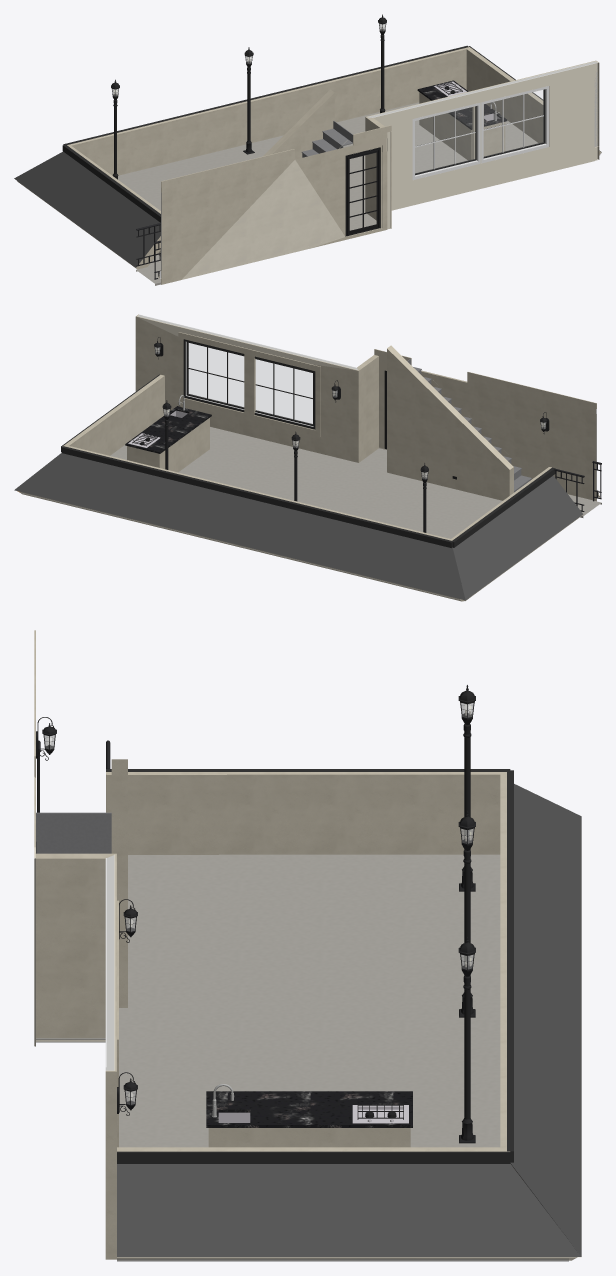
The model's file is rear-deck-e1c1b58ea63d.glb.
The picture shows the model from 3 angles, top to bottom: view 1: azimuth 30°, elevation 25°; view 2: azimuth 150°, elevation 25°; view 3: azimuth 270°, elevation 25°; orthographic projection. The views are drawn at different scales.
Parts seen in each view (by area): view 1: rear-deck-bd62734a7bc60eb7, rear-deck-32021a86c784f0e0, rear-deck-245f595ae2832e16, rear-deck-36ed5266b1bc40cd, rear-deck-ded88bd99590d377, rear-deck-85ede138eeba504d, rear-deck-cdd3b97a7e9637be, rear-deck-dd55bfb54febbe8b, rear-deck-b5f10ab9081c9955, rear-deck-7511cdbc362aca5e, rear-deck-6b027cd2e6bc0d64, rear-deck-2c2eff91633c1380 (+6 smaller); view 2: rear-deck-5febae1537653d02, rear-deck-ded88bd99590d377, rear-deck-bd62734a7bc60eb7, rear-deck-7511cdbc362aca5e, rear-deck-245f595ae2832e16, rear-deck-36ed5266b1bc40cd, rear-deck-cdd3b97a7e9637be, rear-deck-85ede138eeba504d, rear-deck-dd55bfb54febbe8b, rear-deck-d7a70b5818f54477, rear-deck-6b027cd2e6bc0d64, rear-deck-b5f10ab9081c9955 (+6 smaller); view 3: rear-deck-ded88bd99590d377, rear-deck-0e7e1de83ff8e24c, rear-deck-18b8f93424e26a44, rear-deck-5febae1537653d02, rear-deck-6b027cd2e6bc0d64, rear-deck-385241de3d752b47, rear-deck-5e5272df00660e4c, rear-deck-b5f10ab9081c9955, rear-deck-7511cdbc362aca5e, rear-deck-245f595ae2832e16, rear-deck-d7a70b5818f54477, rear-deck-32021a86c784f0e0 (+10 smaller).
Part boxes in pixels (box(x1,y1,x2,y2)): rear-deck-bd62734a7bc60eb7: box(161, 125, 391, 284); rear-deck-32021a86c784f0e0: box(67, 47, 467, 175); rear-deck-245f595ae2832e16: box(365, 60, 597, 212); rear-deck-36ed5266b1bc40cd: box(14, 151, 160, 267); rear-deck-ded88bd99590d377: box(118, 102, 538, 282); rear-deck-85ede138eeba504d: box(412, 102, 480, 179); rear-deck-cdd3b97a7e9637be: box(481, 86, 549, 163); rear-deck-dd55bfb54febbe8b: box(466, 47, 543, 142); rear-deck-b5f10ab9081c9955: box(419, 92, 505, 160); rear-deck-7511cdbc362aca5e: box(263, 89, 334, 159); rear-deck-6b027cd2e6bc0d64: box(365, 117, 390, 229); rear-deck-2c2eff91633c1380: box(347, 150, 378, 235); rear-deck-5febae1537653d02: box(14, 453, 465, 600); rear-deck-ded88bd99590d377: box(110, 427, 596, 538); rear-deck-bd62734a7bc60eb7: box(374, 349, 596, 501); rear-deck-7511cdbc362aca5e: box(387, 345, 513, 500); rear-deck-245f595ae2832e16: box(135, 315, 359, 462); rear-deck-36ed5266b1bc40cd: box(453, 475, 582, 599); rear-deck-cdd3b97a7e9637be: box(183, 339, 244, 412); rear-deck-85ede138eeba504d: box(254, 356, 315, 429); rear-deck-dd55bfb54febbe8b: box(62, 374, 164, 455); rear-deck-d7a70b5818f54477: box(61, 446, 452, 548); rear-deck-6b027cd2e6bc0d64: box(357, 355, 378, 462); rear-deck-b5f10ab9081c9955: box(127, 418, 209, 472); rear-deck-ded88bd99590d377: box(36, 854, 500, 1147); rear-deck-0e7e1de83ff8e24c: box(117, 1164, 581, 1257); rear-deck-18b8f93424e26a44: box(106, 772, 505, 854); rear-deck-5febae1537653d02: box(510, 784, 581, 1256); rear-deck-6b027cd2e6bc0d64: box(36, 853, 114, 1037); rear-deck-385241de3d752b47: box(206, 1091, 412, 1127); rear-deck-5e5272df00660e4c: box(117, 1151, 510, 1163); rear-deck-b5f10ab9081c9955: box(208, 1128, 410, 1147); rear-deck-7511cdbc362aca5e: box(111, 759, 127, 1007); rear-deck-245f595ae2832e16: box(105, 853, 116, 1259); rear-deck-d7a70b5818f54477: box(507, 770, 513, 1162); rear-deck-32021a86c784f0e0: box(500, 772, 506, 1149).
Size of the model in its own units: 12.61 by 3.37 by 6.62.
Materials: 30 (5 with a texture image).
